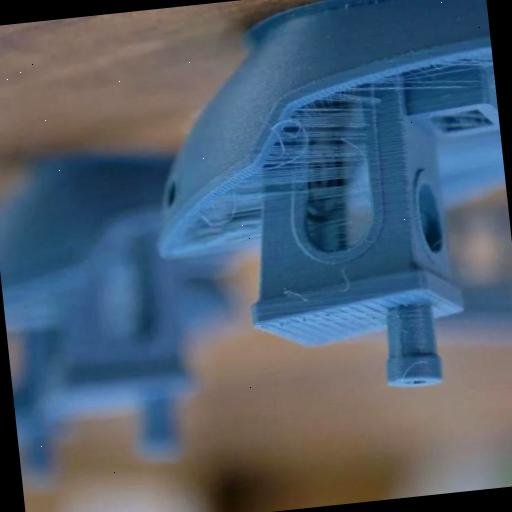stringing: (210, 100, 380, 192), (328, 60, 483, 97)
